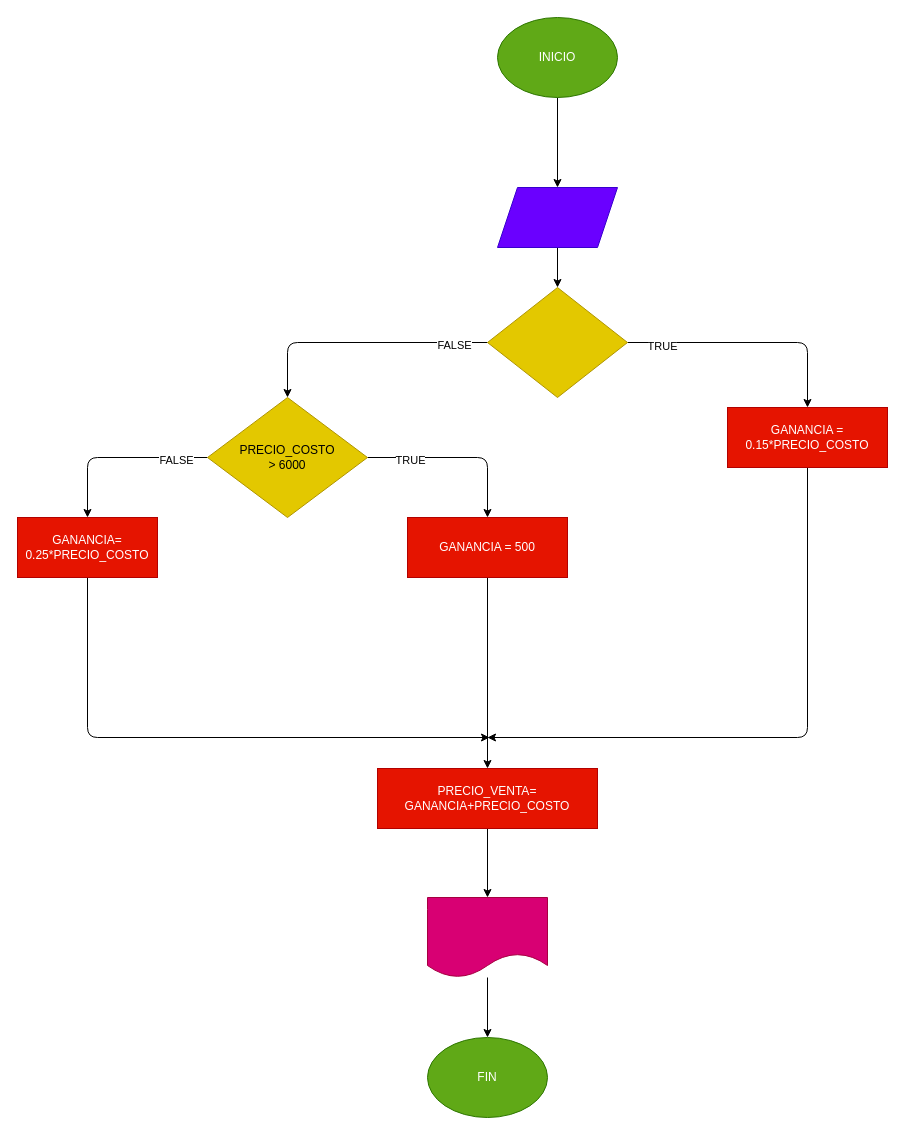
Some shapes in this 905 by 1135 pixel diagram are drawn without their labels. The centre of each missing label's shape, as x and y in pixels:
"PRECIO_COSTO" belongs at (557,217).
"PRECIO_COSTO < 3000" belongs at (557,342).
"PRINT = PRECIO_VENTA" belongs at (487,937).
